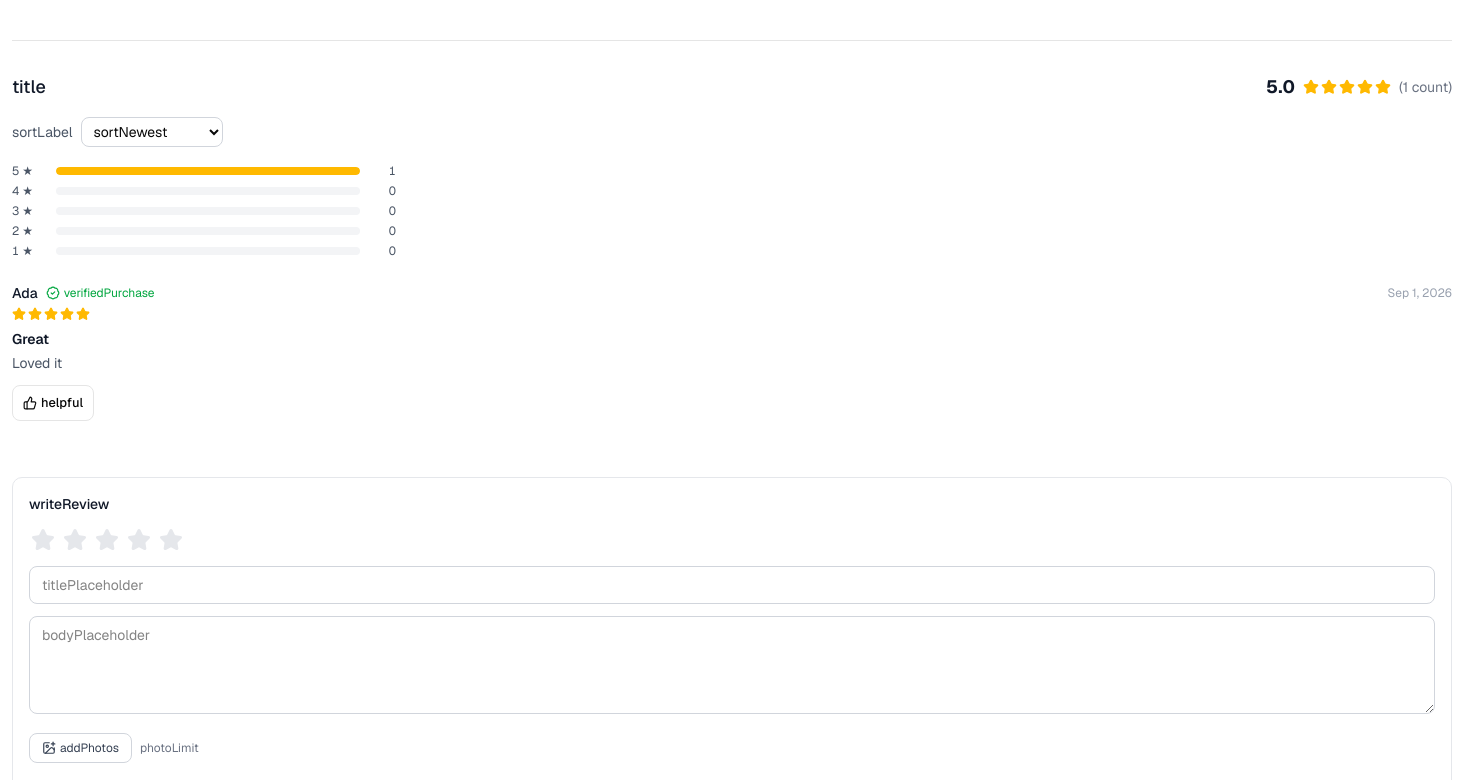
Scenario: ProductReviews helpful vote (F-5) › explains the refusal when the review is the caller's own
Click the button with test id "review-helpful-rev_1": (53, 403) [12, 385, 94, 421]
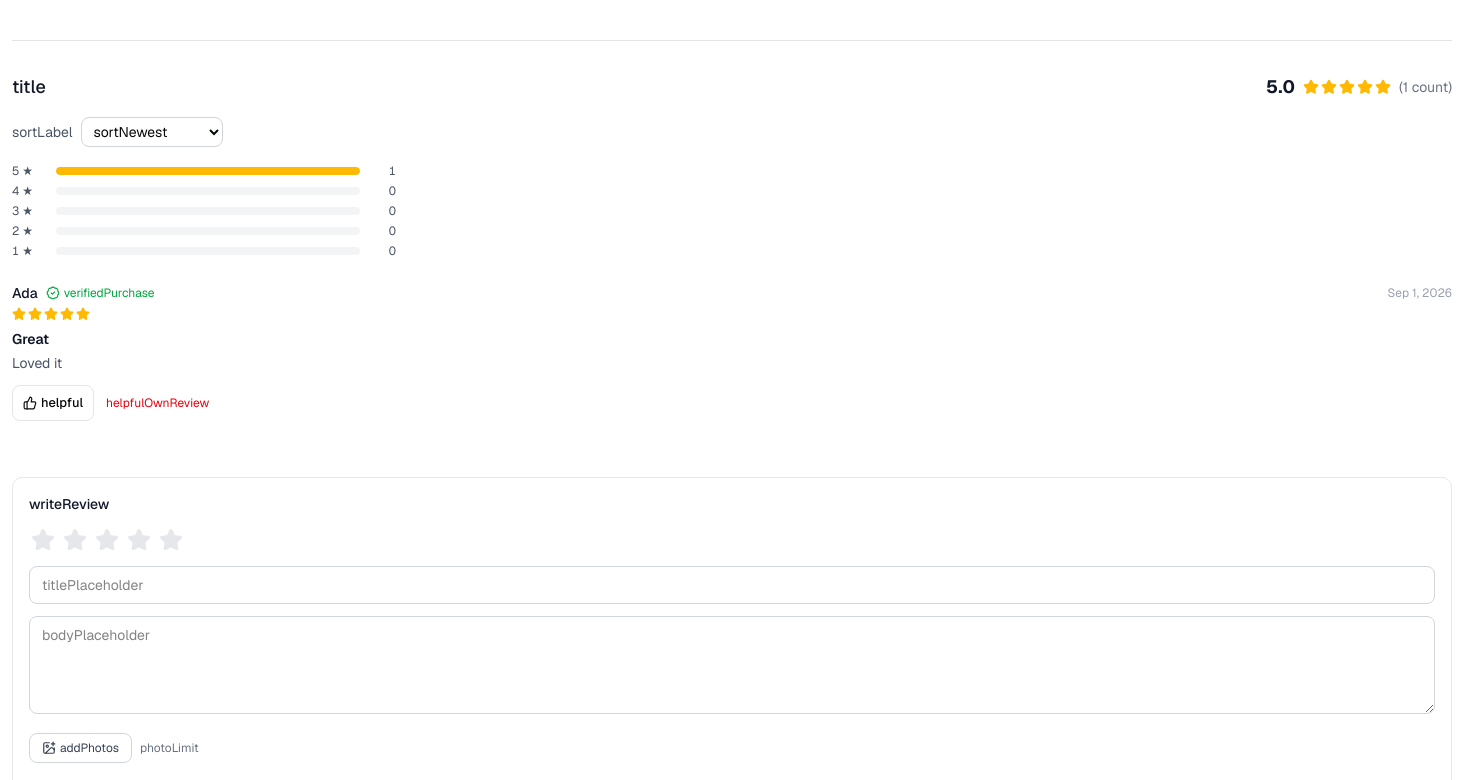
Expected: the text "helpfulOwnReview" is shown, [106, 395, 209, 411]
